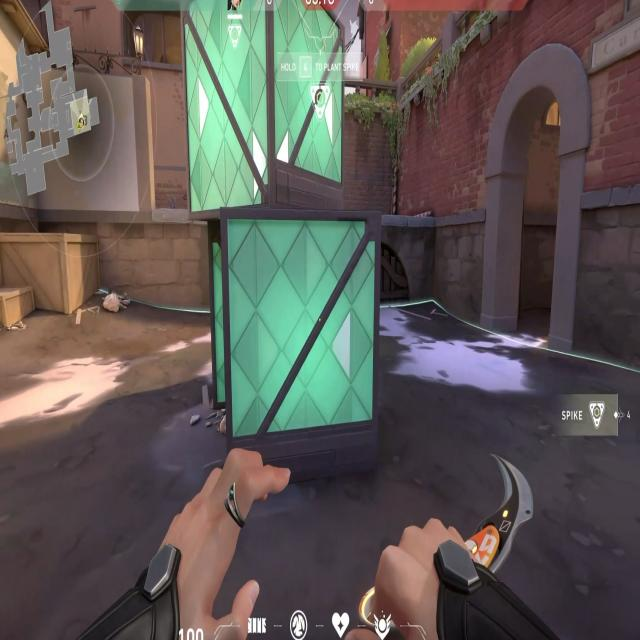B_Boathouse: (480, 42, 592, 366)
B_Site_Box: (182, 1, 382, 480)
